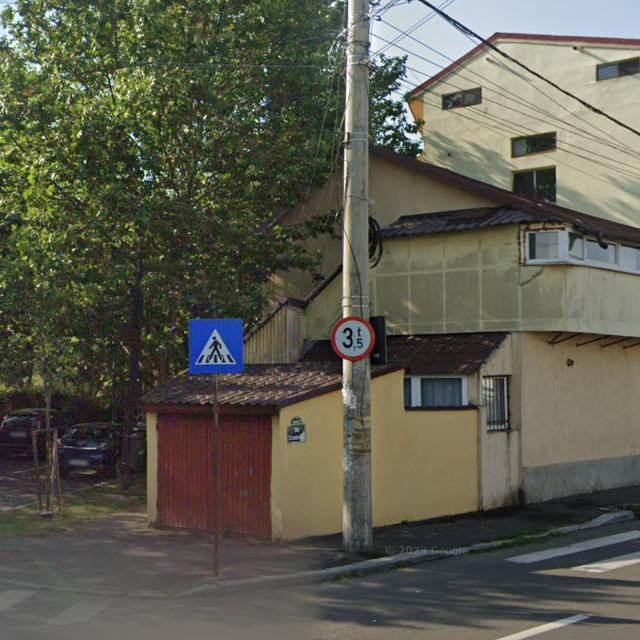forb_weight_over_3.5t: (331, 316, 375, 361)
info_crosswalk: (189, 318, 244, 374)
